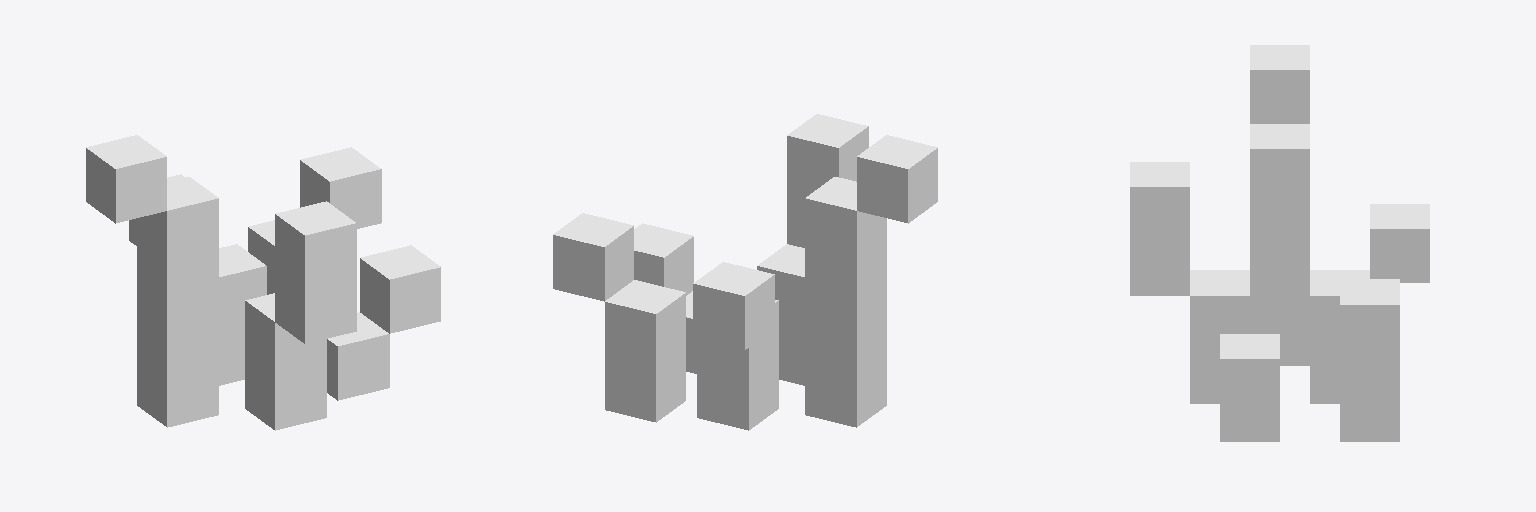
The model's file is trawa.obj.
3 renders of one model, left to right at view 1: azimuth 30°, elevation 25°; view 2: azimuth 150°, elevation 25°; view 3: azimuth 270°, elevation 25°, orthographic.
Visible parts, largest first — view 1: object 1; view 2: object 1; view 3: object 1.
Boxes of the visible parts, <box> form: object 1: <box>86,135,440,430</box>; object 1: <box>553,114,937,430</box>; object 1: <box>1130,45,1429,441</box>.
Bounding box in the file's own units: 1.2 × 1 × 1.